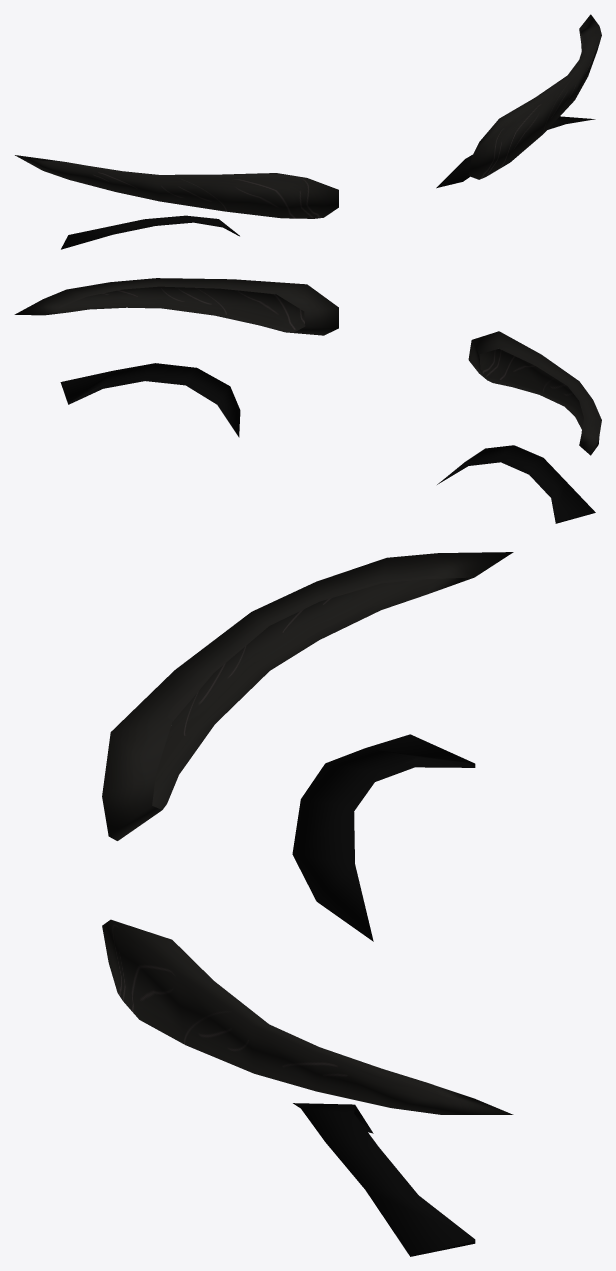
File: brous3.fbx
3 views of the same model, one above another, from view 1: azimuth 30°, elevation 25°; view 2: azimuth 150°, elevation 25°; view 3: azimuth 270°, elevation 25° (orthographic). The views are drawn at different scales.
Parts seen in each view (by area): view 1: brous3; view 2: brous3; view 3: brous3.
Boxes of the visible parts, bbox=[...] form: brous3: bbox=[15, 14, 601, 249]; brous3: bbox=[14, 278, 601, 523]; brous3: bbox=[102, 552, 513, 1256].
Bounding box in the file's own units: 11.62 × 2.12 × 3.59.
